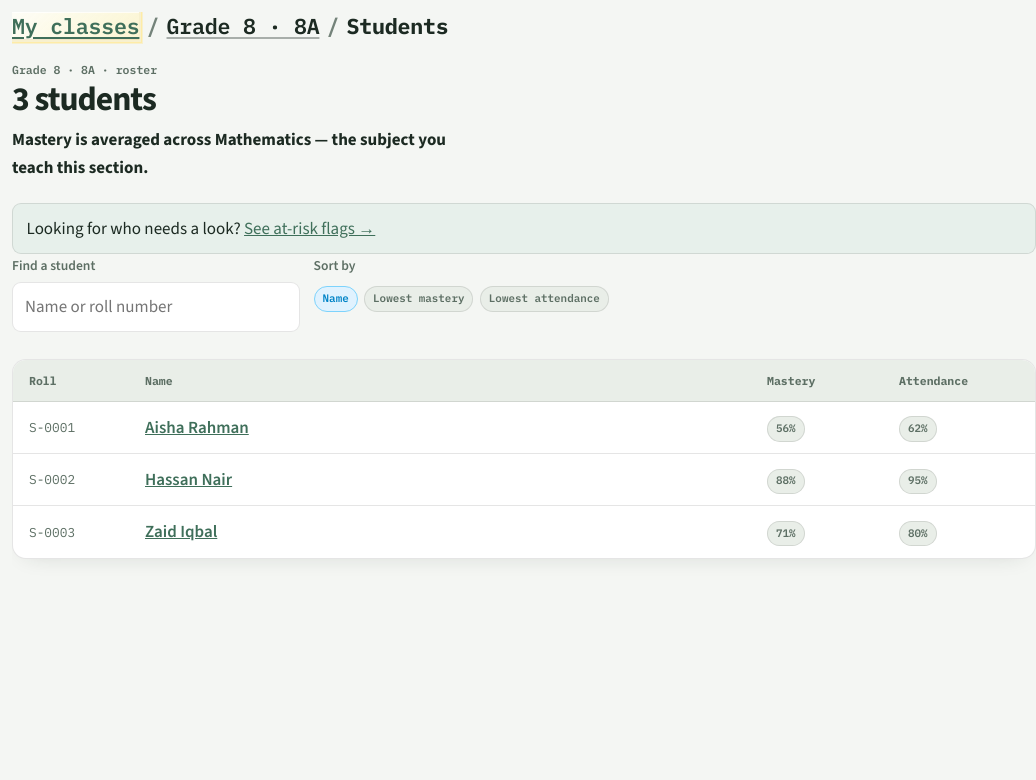
RosterPage › says so plainly when a search matches nobody
Expected: the link "Aisha Rahman" is shown, [145,416,249,439]
In the field labelled "Find a student": (156, 307) [12,282,300,332], type "Nobody"
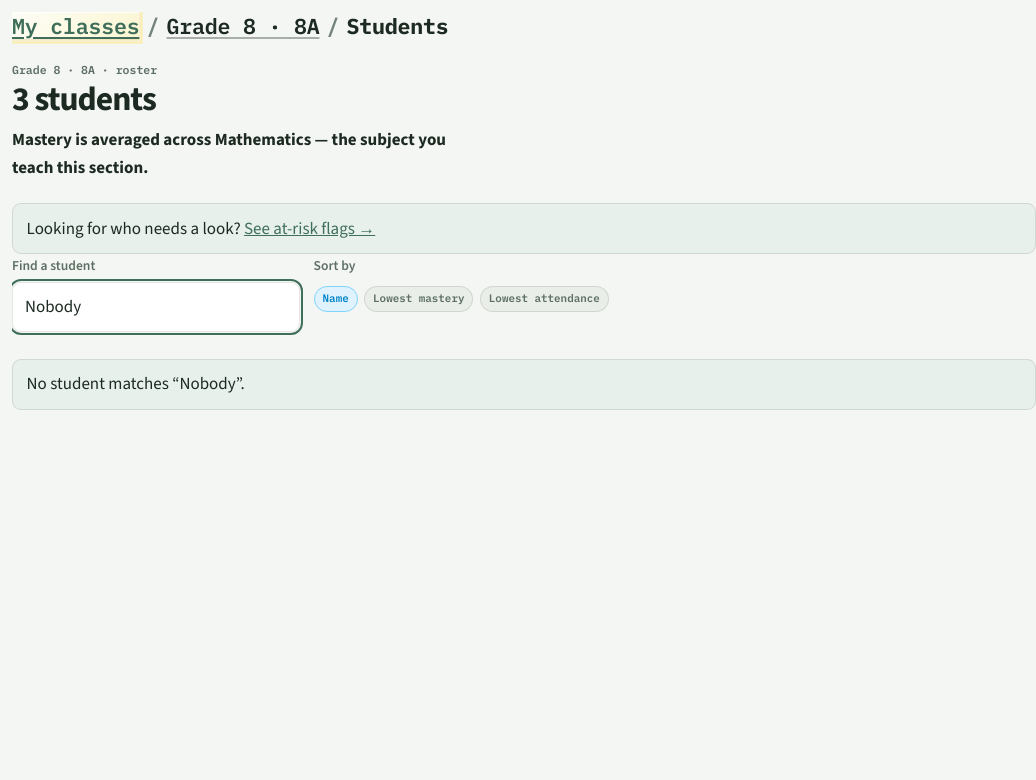
Expected: the text "No student matches “Nobody”." is shown, [12,359,1035,410]
